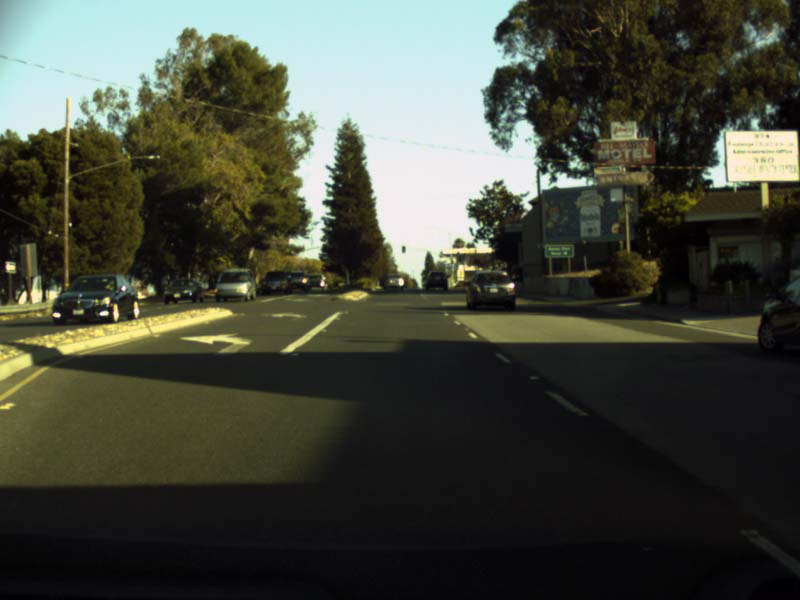Green: (401, 245, 405, 253)
